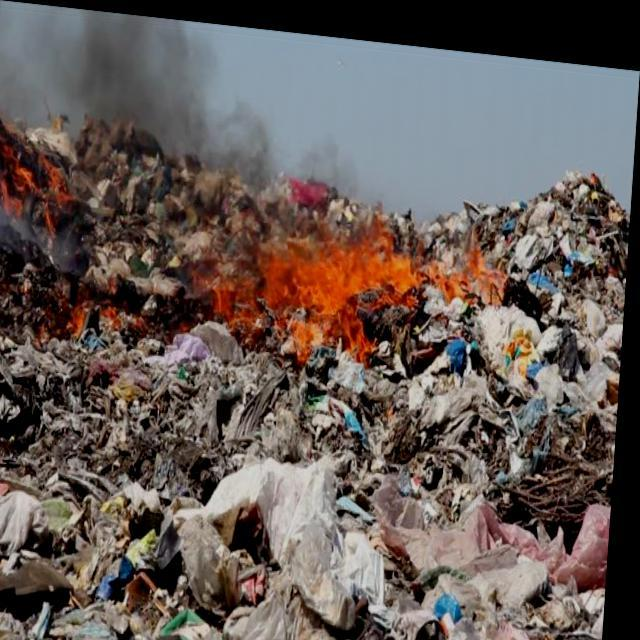Fire: (0, 73, 558, 445)
